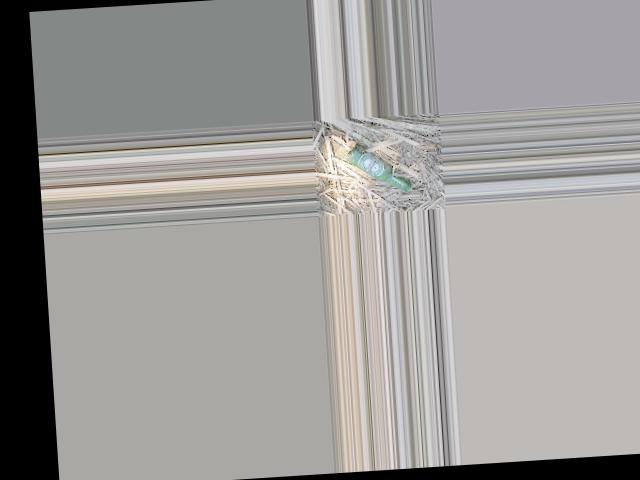beer: (346, 140, 413, 194)
